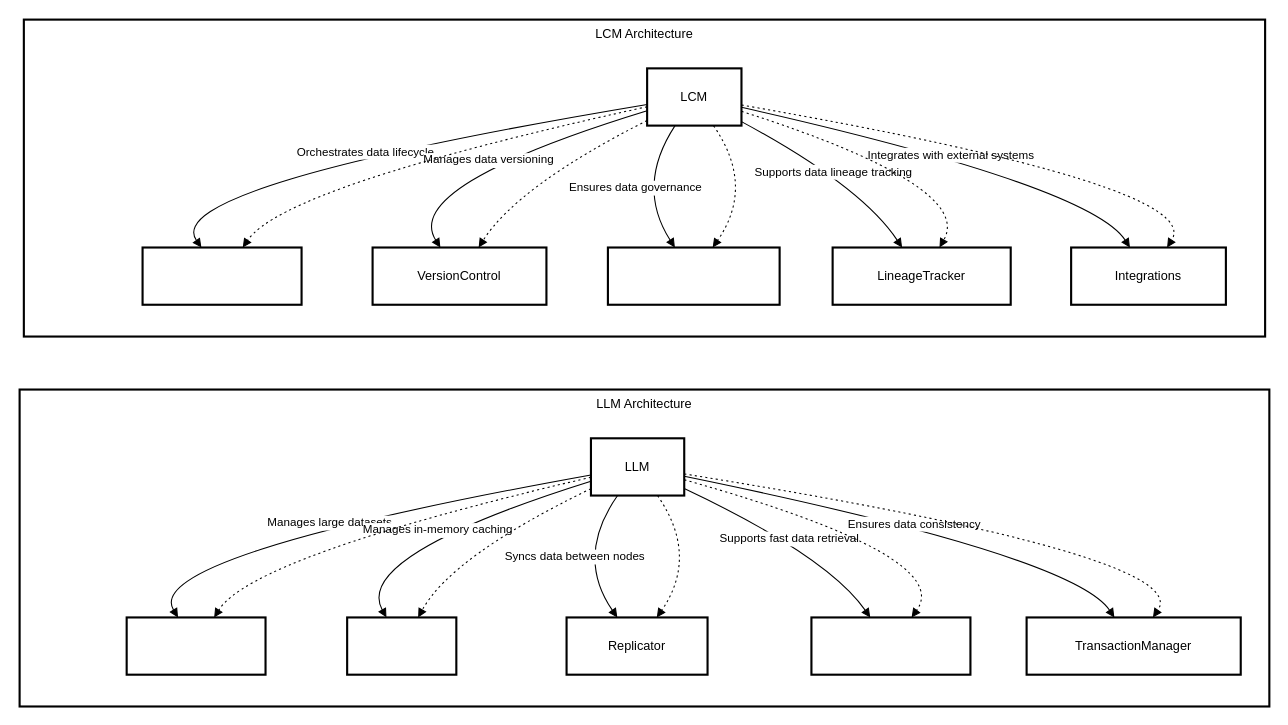
Some shapes in this 1288 by 725 pixel diagram are drawn without their labels. Each missing label, with the centre of its shape:
"Cache" belongs at [401,645].
"DataPipeline" belongs at [221,275].
"DataStore" belongs at [195,645].
"PolicyManager" belongs at [693,275].
"QueryEngine" belongs at [890,645].
